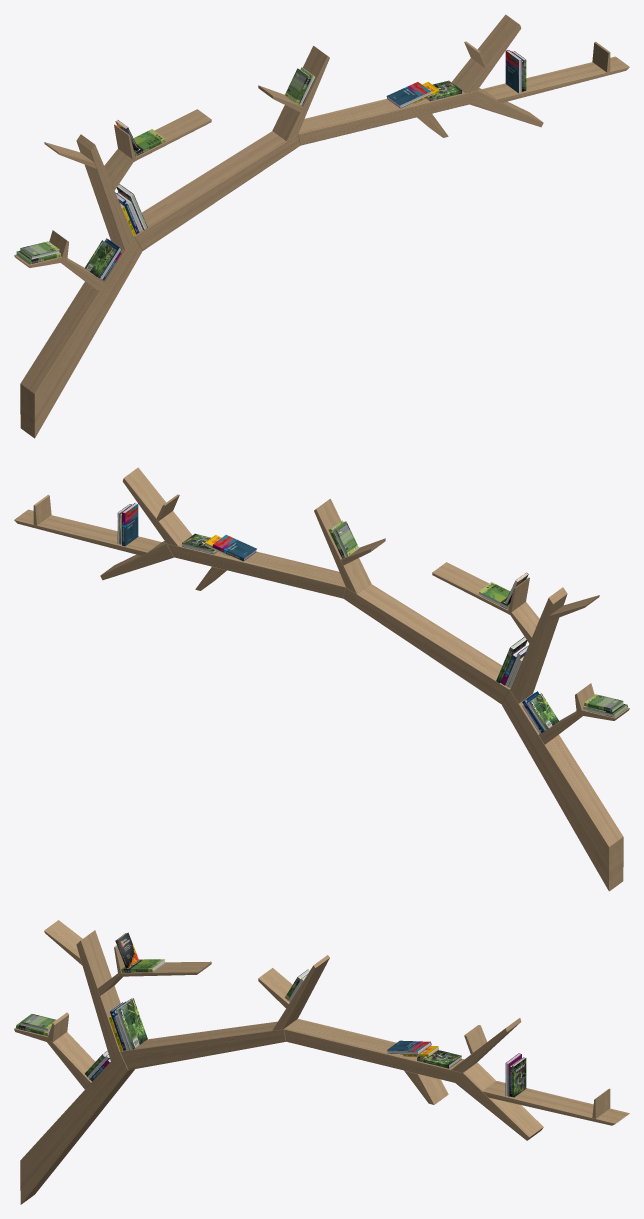
File: bookshelf_branch.obj
The picture shows the model from 3 angles, top to bottom: view 1: azimuth 30°, elevation 25°; view 2: azimuth 150°, elevation 25°; view 3: azimuth 330°, elevation 25°; orthographic projection.
Visible parts, largest first — view 1: shelf_part01, shelf_part02, shelf_part03, shelf_part05, shelf_part13, shelf_part14, shelf_part19, shelf_part09, shelf_part04, book18, shelf_part08, book05 (+1 smaller); view 2: shelf_part01, shelf_part02, shelf_part03, shelf_part05, shelf_part13, shelf_part14, shelf_part19, shelf_part09, shelf_part04, book18, shelf_part08, book14 (+1 smaller); view 3: shelf_part01, shelf_part02, shelf_part03, shelf_part05, shelf_part13, shelf_part04, shelf_part06, shelf_part19, book09, shelf_part09, shelf_part10, shelf_part12 (+9 smaller).
Boxes of the visible parts, x1,y1,x2,y2 form: shelf_part01: (20,237,142,438); shelf_part02: (133,131,300,250); shelf_part03: (298,90,476,145); shelf_part05: (76,134,133,250); shelf_part13: (482,56,629,102); shelf_part14: (451,14,521,93); shelf_part19: (272,46,329,141); shelf_part09: (118,109,211,161); shelf_part04: (470,88,543,127); book18: (386,82,431,108); shelf_part08: (104,149,133,190); book05: (85,240,116,277); shelf_part01: (501,690,623,891); shelf_part02: (343,584,510,703); shelf_part03: (167,543,345,598); shelf_part05: (510,587,567,703); shelf_part13: (14,509,161,555); shelf_part14: (122,467,192,546); shelf_part19: (314,499,371,594); shelf_part09: (432,562,525,614); shelf_part04: (100,541,173,580); book18: (212,534,256,561); shelf_part08: (510,602,539,643); book14: (122,503,138,546); shelf_part01: (20,1052,134,1204); shelf_part02: (120,1019,297,1069); shelf_part03: (284,1019,477,1082); shelf_part05: (76,930,120,1060); shelf_part13: (482,1081,629,1125); shelf_part04: (455,1062,543,1140); shelf_part06: (47,1032,95,1089); shelf_part19: (272,955,329,1030); book09: (116,998,147,1049); shelf_part09: (118,961,211,976); shelf_part10: (44,920,82,965); shelf_part12: (404,1070,448,1104).
Size of the model in its own units: 211 by 104 by 8.87.
8 materials, 8 textured.
